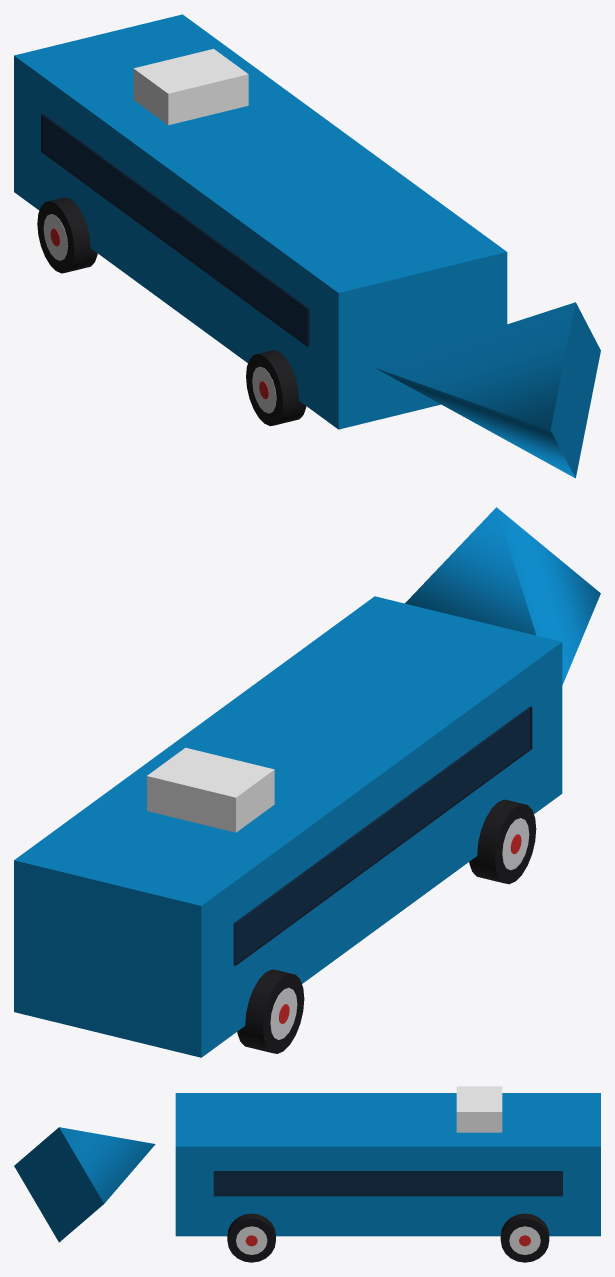
The model's file is tgv.glb.
3 views of the same model, one above another, from view 1: azimuth 30°, elevation 25°; view 2: azimuth 150°, elevation 25°; view 3: azimuth 270°, elevation 25° (orthographic). The views are drawn at different scales.
Bounding box in the file's own units: 0.2895 × 0.2471 × 1.
